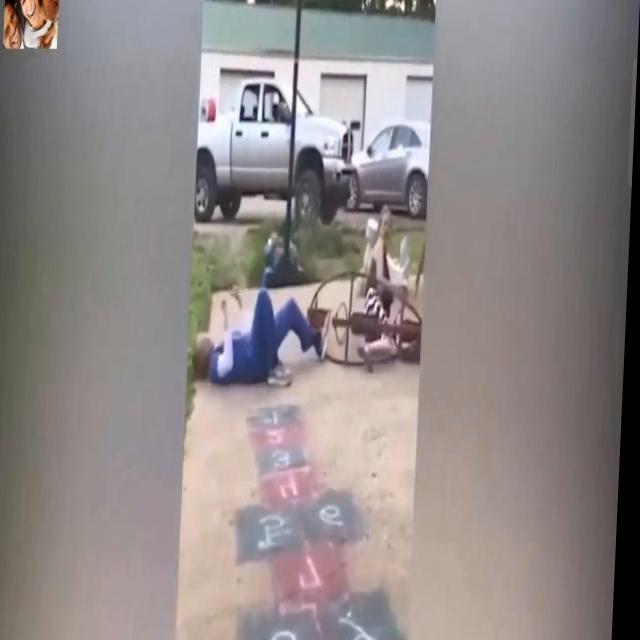fall: (197, 278, 331, 402), (354, 200, 402, 371)
